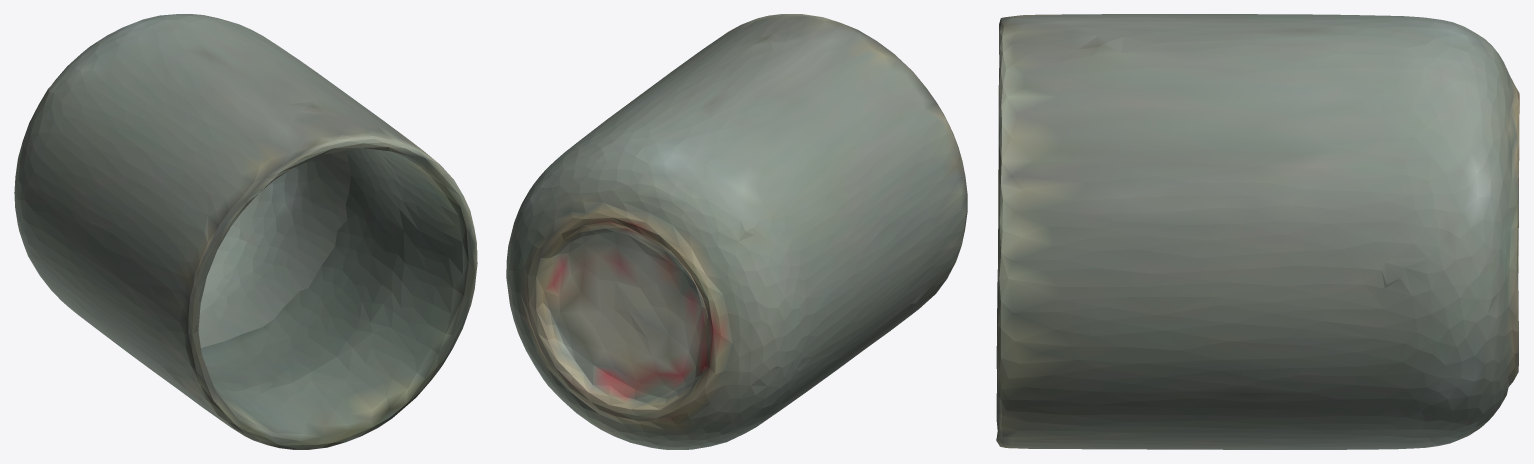
Rendered from scan.obj.
3 renders of one model, left to right at view 1: azimuth 30°, elevation 25°; view 2: azimuth 150°, elevation 25°; view 3: azimuth 270°, elevation 25°, orthographic. The views are drawn at different scales.
Visible parts, largest first — view 1: scan.ply; view 2: scan.ply; view 3: scan.ply.
Boxes of the visible parts, x1,y1,x2,y2 form: scan.ply: (14,14,477,449); scan.ply: (506,14,967,449); scan.ply: (996,14,1519,449).
Size of the model in its own units: 0.1045 by 0.1053 by 0.1263.
